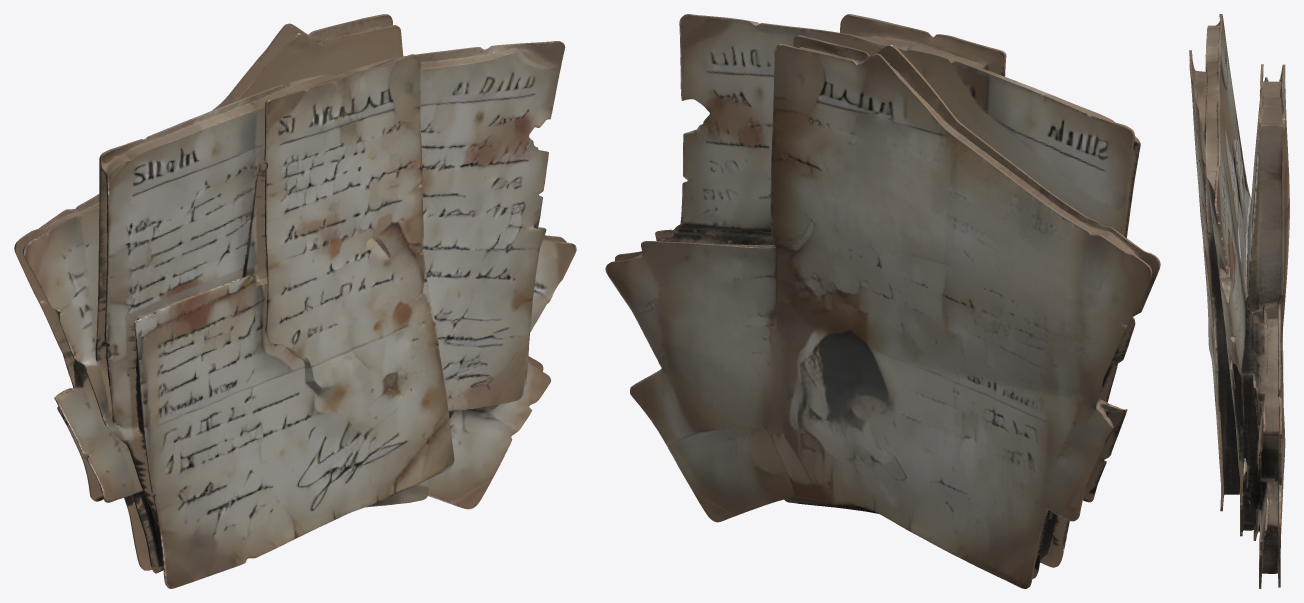
Rendered from base_basic_pbr.fbx.
3 renders of one model, left to right at view 1: azimuth 30°, elevation 25°; view 2: azimuth 150°, elevation 25°; view 3: azimuth 270°, elevation 25°, orthographic. The views are drawn at different scales.
Parts seen in each view (by area): view 1: model; view 2: model; view 3: model.
Boxes of the visible parts, <box> form: model: <box>14,14,576,588</box>; model: <box>605,14,1160,588</box>; model: <box>1189,14,1289,588</box>.
Bounding box in the file's own units: 190 × 170 × 34.37.
1 material, 1 textured.
